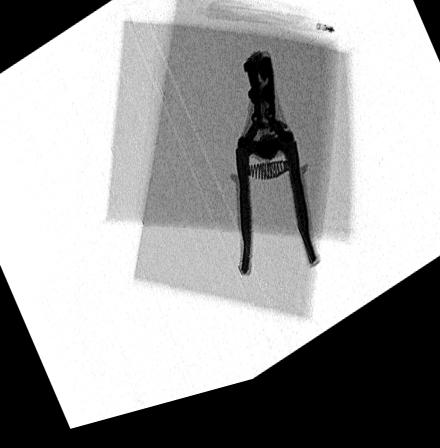Pliers: (234, 62, 319, 290)
